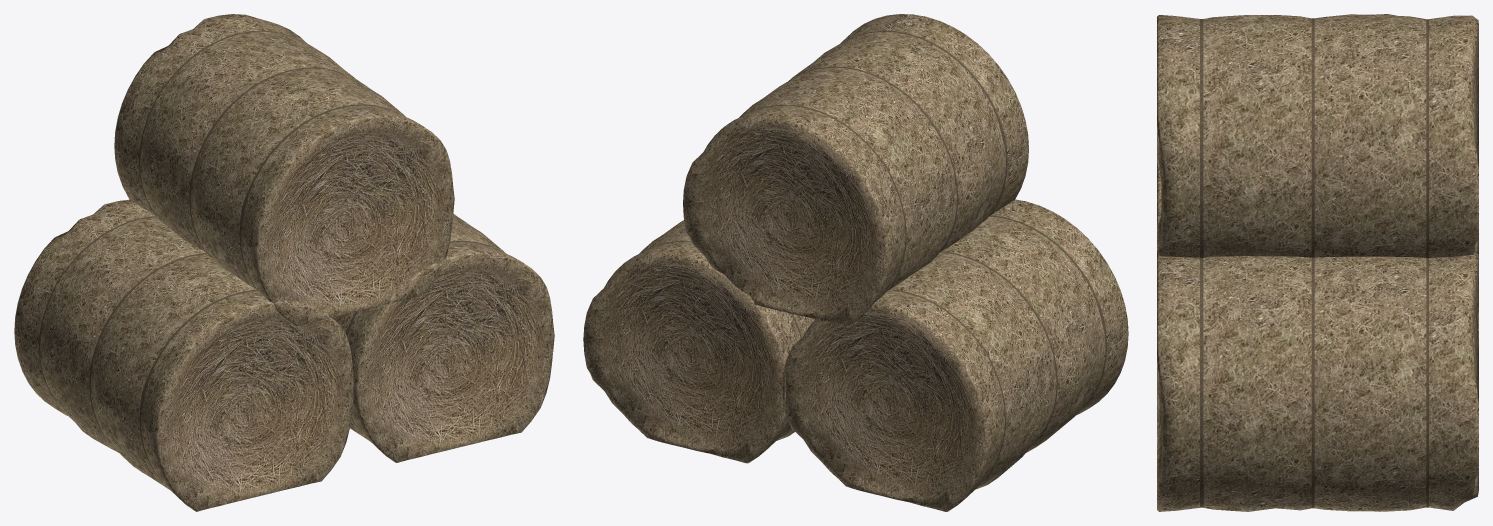
The model's file is hay_stack.glb.
The picture shows the model from 3 angles, left to right: view 1: azimuth 30°, elevation 25°; view 2: azimuth 150°, elevation 25°; view 3: azimuth 270°, elevation 25°; orthographic projection. The views are drawn at different scales.
Visible parts, largest first — view 1: Object_4; view 2: Object_4; view 3: Object_4.
Boxes of the visible parts, x1=… form: Object_4: x1=14, y1=14, x2=554, y2=511; Object_4: x1=583, y1=14, x2=1128, y2=511; Object_4: x1=1157, y1=14, x2=1478, y2=511.
Size of the model in its own units: 3.21 by 2.65 by 1.94.
Materials: 1 (1 with a texture image).
